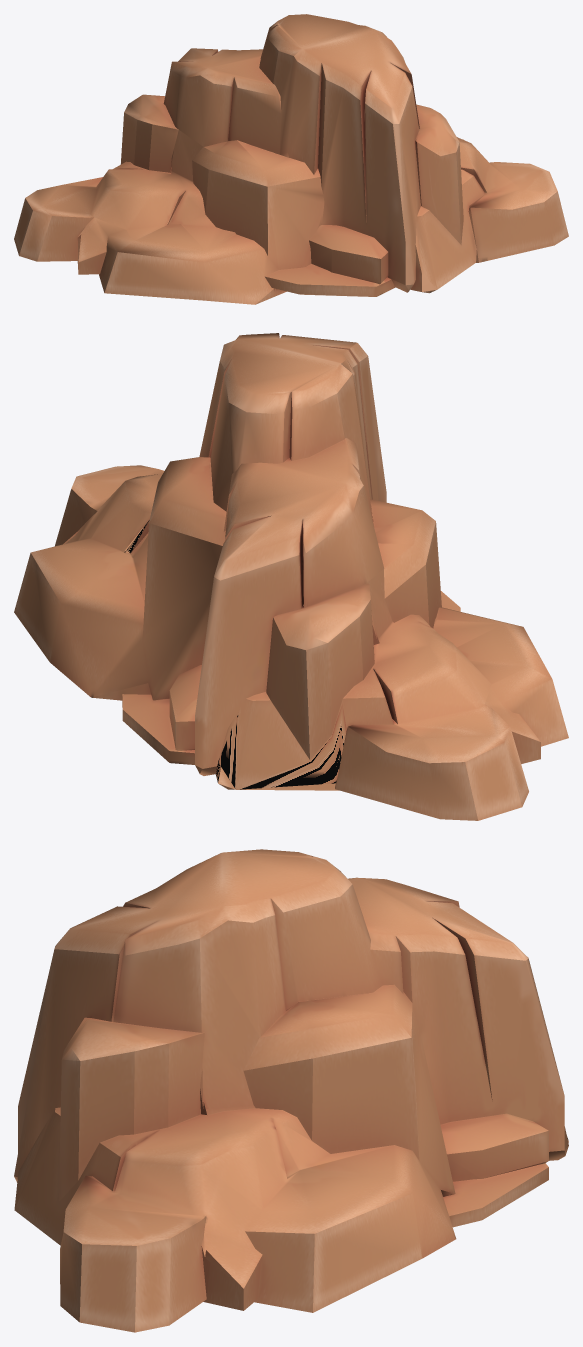
The model's file is desert_rock_06.glb.
3 views of the same model, one above another, from view 1: azimuth 30°, elevation 25°; view 2: azimuth 150°, elevation 25°; view 3: azimuth 270°, elevation 25° (orthographic). The views are drawn at different scales.
Parts seen in each view (by area): view 1: Rock_6_Rock_6_0; view 2: Rock_6_Rock_6_0; view 3: Rock_6_Rock_6_0.
Boxes of the visible parts, x1=… form: Rock_6_Rock_6_0: x1=14, y1=14, x2=568, y2=304; Rock_6_Rock_6_0: x1=14, y1=333, x2=568, y2=820; Rock_6_Rock_6_0: x1=14, y1=849, x2=568, y2=1332.
Bounding box in the file's own units: 5.96 × 2.8 × 4.35.
1 material, 1 textured.
